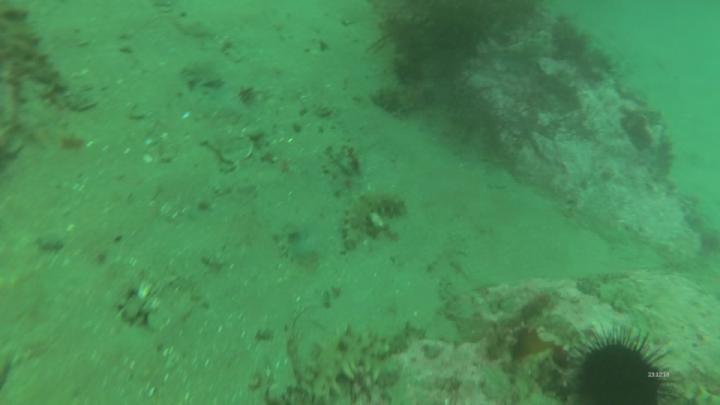echinus: (556, 325, 676, 405)
holothurian: (295, 323, 398, 402), (337, 184, 409, 253)
waterweeds: (373, 2, 540, 88)
